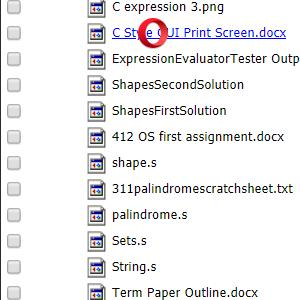opera: (138, 18, 168, 48)
